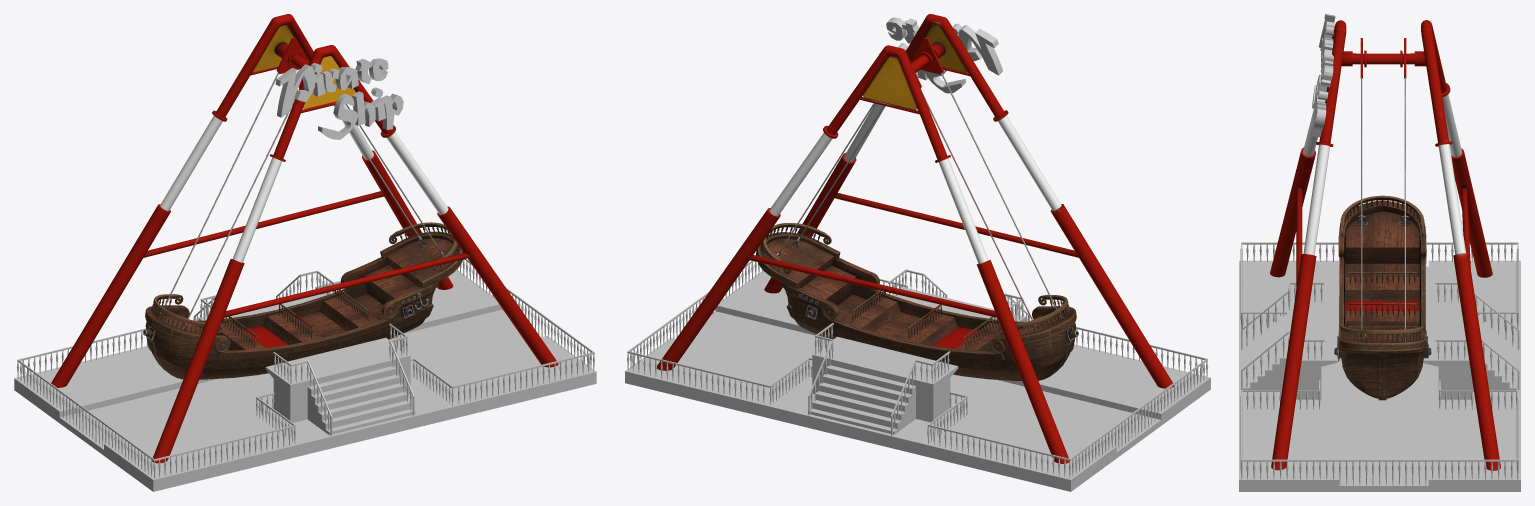
Rendered from PirateShip.fbx.
3 renders of one model, left to right at view 1: azimuth 30°, elevation 25°; view 2: azimuth 150°, elevation 25°; view 3: azimuth 270°, elevation 25°, orthographic.
Visible parts, largest first — view 1: Base, Supporting_frame, boat, Name_plate; view 2: Base, Supporting_frame, boat, Name_plate; view 3: Base, Supporting_frame, boat, Name_plate.
Part boxes in pixels (x1,y1,x2,y2): Base: [14, 258, 596, 491]; Supporting_frame: [51, 14, 558, 463]; boat: [143, 37, 463, 379]; Name_plate: [275, 58, 403, 139]; Base: [625, 260, 1210, 491]; Supporting_frame: [657, 14, 1173, 463]; boat: [756, 37, 1078, 380]; Name_plate: [879, 17, 1002, 93]; Base: [1239, 242, 1520, 491]; Supporting_frame: [1270, 20, 1500, 470]; boat: [1334, 38, 1431, 400]; Name_plate: [1311, 14, 1335, 137].
Bounding box in the file's own units: 42.4 × 32.38 × 23.04.
